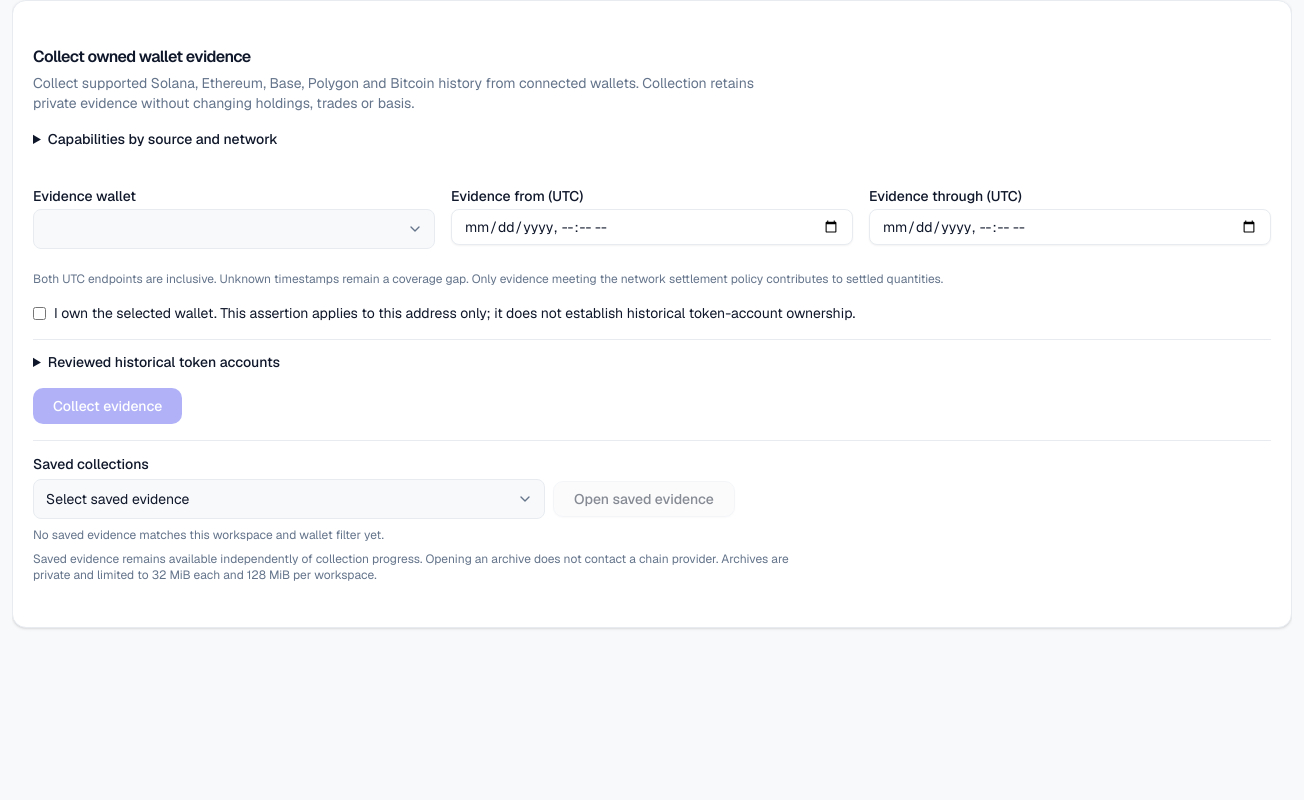
Test: distinguishes complete empty retrieval from a filtered empty result
expect the dropdown labelled "Evidence wallet" is shown: met, box [33,209,435,249]
Click the checkbox labelled "I own the selected wallet" at (40,314), box [33,307,46,320]
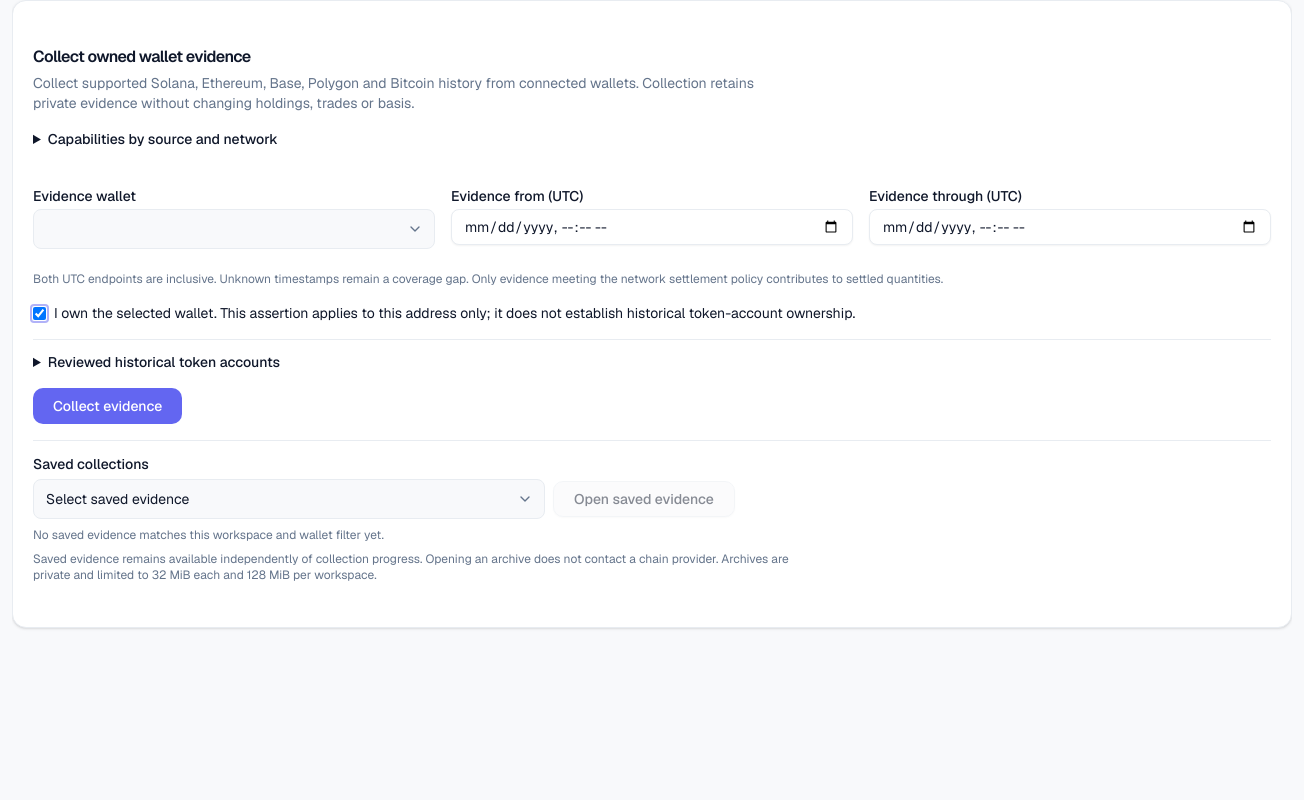
Click the button "Collect evidence" at (108,406), box [33,388,182,424]
(page scrolled)
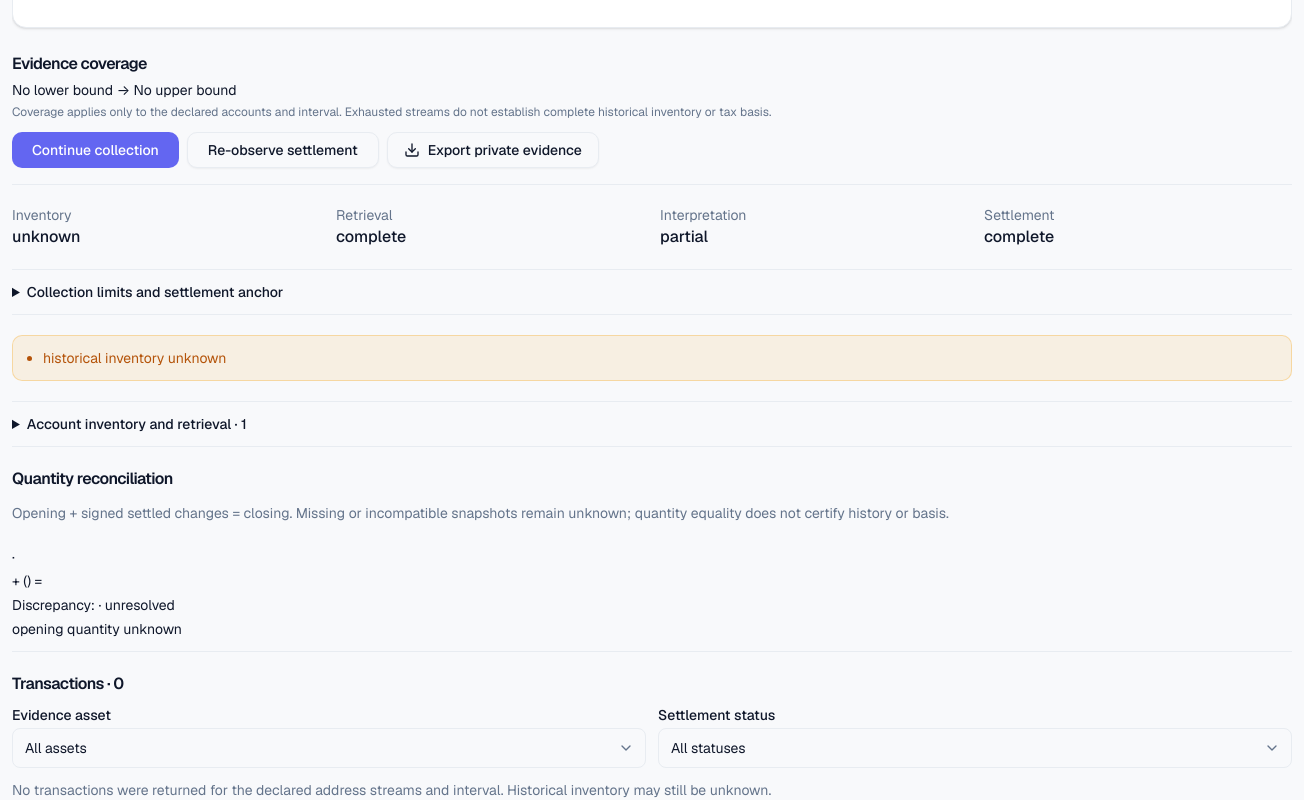
expect the text "No transactions were returned for the declared address streams" is shown: met, box [12,781,771,799]
